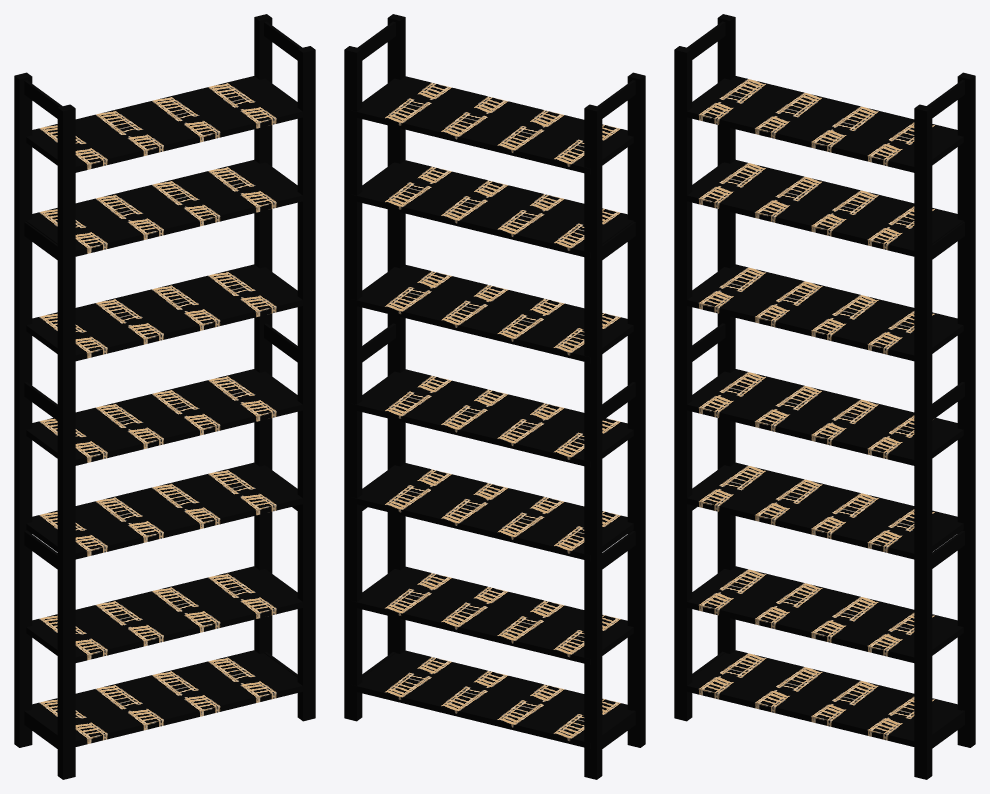
Rendered from pinewoodRackFullHeight.obj.
3 views of the same model, side by side, from view 1: azimuth 30°, elevation 25°; view 2: azimuth 150°, elevation 25°; view 3: azimuth 330°, elevation 25° (orthographic).
Parts seen in each view (by area): view 1: piece_3_Cube_1_17, piece_2_Cube_1_9, piece_7_Cube_1_49, piece_11_Cube_1_81, piece_9_Cube_1_65, piece_6_Cube_1_41, piece_8_Cube_1_57, piece_10_Cube_1_73, piece_5_Cube_1_33, piece_1_Cube_1_1, piece_4_Cube_1_25, piece_21_Cube_1_161 (+6 smaller); view 2: piece_1_Cube_1_1, piece_11_Cube_1_81, piece_6_Cube_1_41, piece_7_Cube_1_49, piece_9_Cube_1_65, piece_8_Cube_1_57, piece_4_Cube_1_25, piece_10_Cube_1_73, piece_5_Cube_1_33, piece_3_Cube_1_17, piece_2_Cube_1_9, piece_21_Cube_1_161 (+6 smaller); view 3: piece_2_Cube_1_9, piece_3_Cube_1_17, piece_7_Cube_1_49, piece_9_Cube_1_65, piece_11_Cube_1_81, piece_6_Cube_1_41, piece_8_Cube_1_57, piece_10_Cube_1_73, piece_5_Cube_1_33, piece_4_Cube_1_25, piece_1_Cube_1_1, piece_21_Cube_1_161 (+6 smaller).
Part boxes in pixels (x1,y1,x2,y2): piece_3_Cube_1_17: [57, 104, 75, 779]; piece_2_Cube_1_9: [297, 46, 315, 721]; piece_7_Cube_1_49: [26, 462, 302, 559]; piece_11_Cube_1_81: [26, 76, 302, 172]; piece_9_Cube_1_65: [26, 264, 302, 361]; piece_6_Cube_1_41: [26, 566, 302, 662]; piece_8_Cube_1_57: [26, 369, 302, 465]; piece_10_Cube_1_73: [26, 160, 302, 256]; piece_5_Cube_1_33: [28, 650, 302, 746]; piece_1_Cube_1_1: [14, 72, 32, 747]; piece_4_Cube_1_25: [254, 14, 272, 655]; piece_21_Cube_1_161: [24, 80, 62, 118]; piece_1_Cube_1_1: [584, 104, 602, 779]; piece_11_Cube_1_81: [351, 76, 633, 174]; piece_6_Cube_1_41: [351, 566, 633, 664]; piece_7_Cube_1_49: [351, 463, 633, 561]; piece_9_Cube_1_65: [351, 264, 633, 362]; piece_8_Cube_1_57: [351, 369, 633, 467]; piece_4_Cube_1_25: [344, 46, 362, 721]; piece_10_Cube_1_73: [351, 160, 633, 258]; piece_5_Cube_1_33: [351, 650, 631, 748]; piece_3_Cube_1_17: [627, 72, 645, 747]; piece_2_Cube_1_9: [387, 14, 405, 655]; piece_21_Cube_1_161: [597, 80, 635, 118]; piece_2_Cube_1_9: [914, 104, 932, 779]; piece_3_Cube_1_17: [674, 46, 692, 721]; piece_7_Cube_1_49: [687, 462, 963, 559]; piece_9_Cube_1_65: [687, 264, 963, 361]; piece_11_Cube_1_81: [687, 76, 963, 172]; piece_6_Cube_1_41: [687, 566, 963, 662]; piece_8_Cube_1_57: [687, 369, 963, 465]; piece_10_Cube_1_73: [687, 160, 963, 256]; piece_5_Cube_1_33: [687, 650, 960, 746]; piece_4_Cube_1_25: [957, 72, 975, 747]; piece_1_Cube_1_1: [717, 14, 735, 654]; piece_21_Cube_1_161: [687, 21, 725, 59].
Size of the model in its own units: 89.8 by 227 by 30.17.
